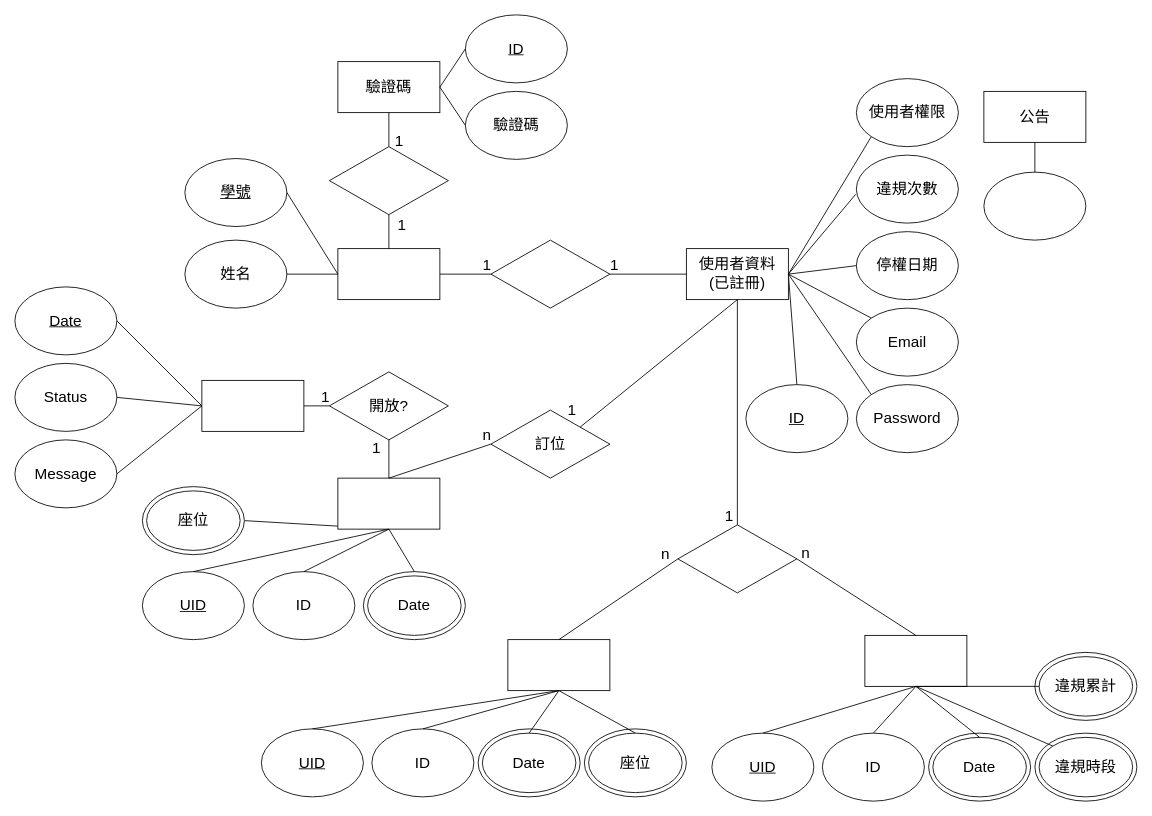
Some shapes in this 1152 by 816 pixel diagram are drawn without their labels. Here are the shapes that lost their labels. From the top down, the centre of each, then its label:
At (x=388, y=180): "學生存在".
At (x=1034, y=205): "訊息".
At (x=388, y=274): "學生資料 (未註冊)".
At (x=550, y=273): "註冊".
At (x=252, y=405): "時段".
At (x=388, y=503): "訂位資料".
At (x=737, y=558): "查詢".
At (x=558, y=665): "簽到記錄".
At (x=915, y=660): "違規紀錄".
